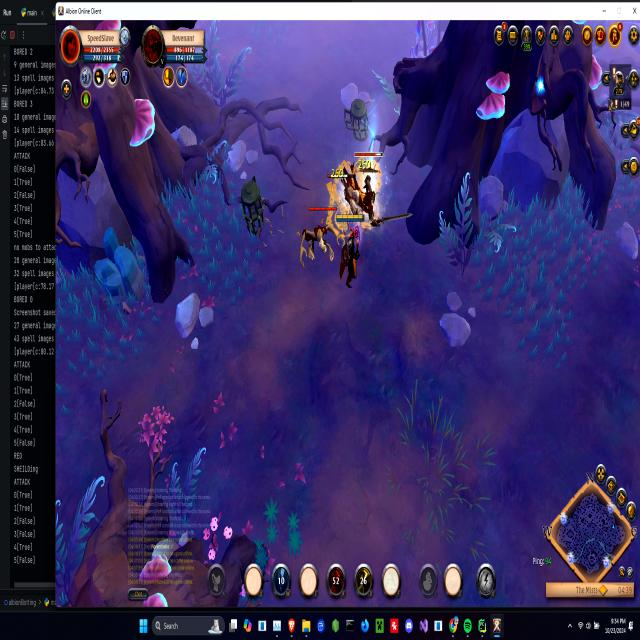ore: (322, 148, 391, 236), (298, 198, 337, 276)
red: (332, 207, 368, 294)
